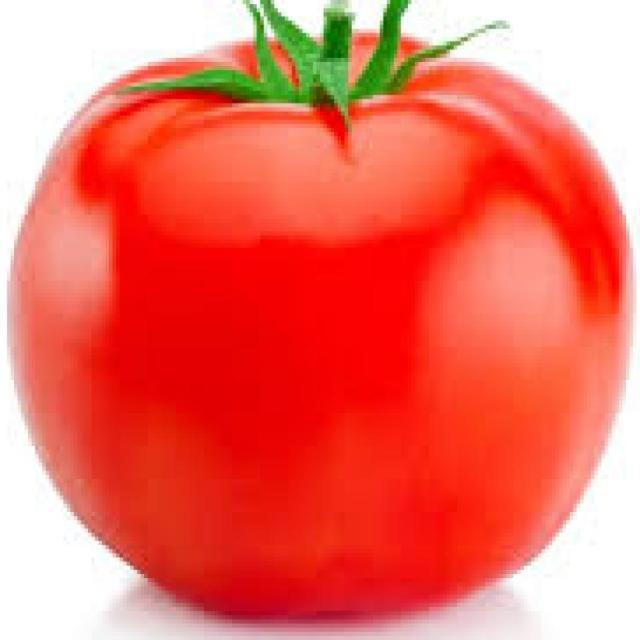Healthy Fruit: (7, 30, 427, 417)
